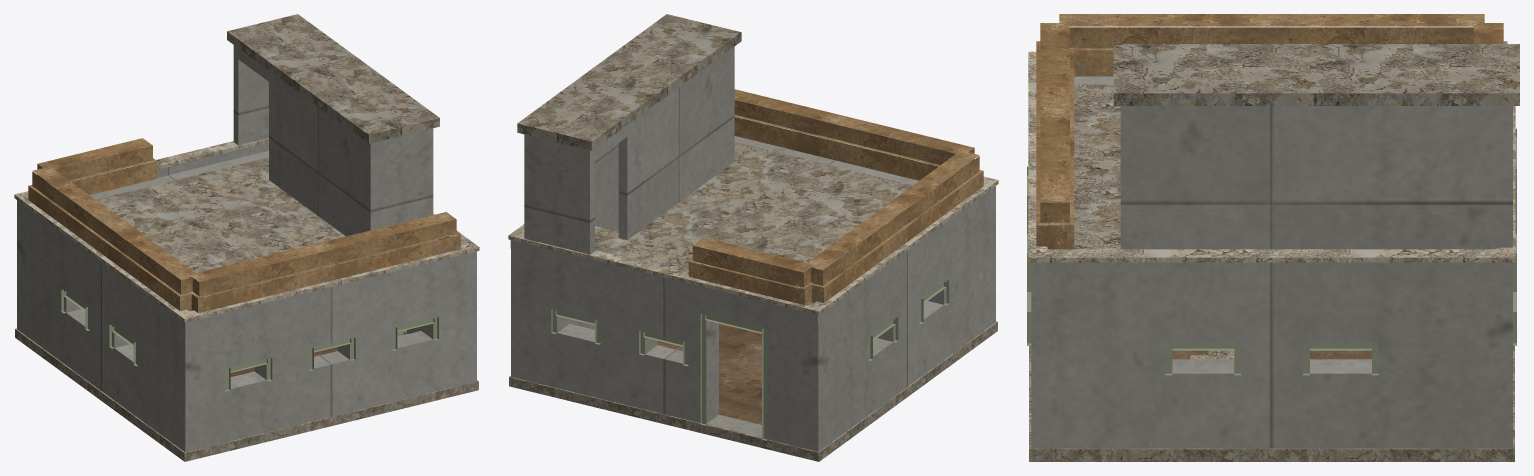
The model's file is mb-pillbox.zfix-v21.lod0.glb.
3 views of the same model, side by side, from view 1: azimuth 30°, elevation 25°; view 2: azimuth 150°, elevation 25°; view 3: azimuth 270°, elevation 25° (orthographic). The views are drawn at different scales.
Visible parts, largest first — view 1: mb-pillbox; view 2: mb-pillbox; view 3: mb-pillbox.
Boxes of the visible parts, box(x1,y1,x2,y2) form: mb-pillbox: box(14, 14, 479, 461); mb-pillbox: box(508, 14, 998, 461); mb-pillbox: box(1027, 14, 1519, 461).
Bounding box in the file's own units: 7.12 × 5.82 × 7.16.
Materials: 4 (3 with a texture image).
